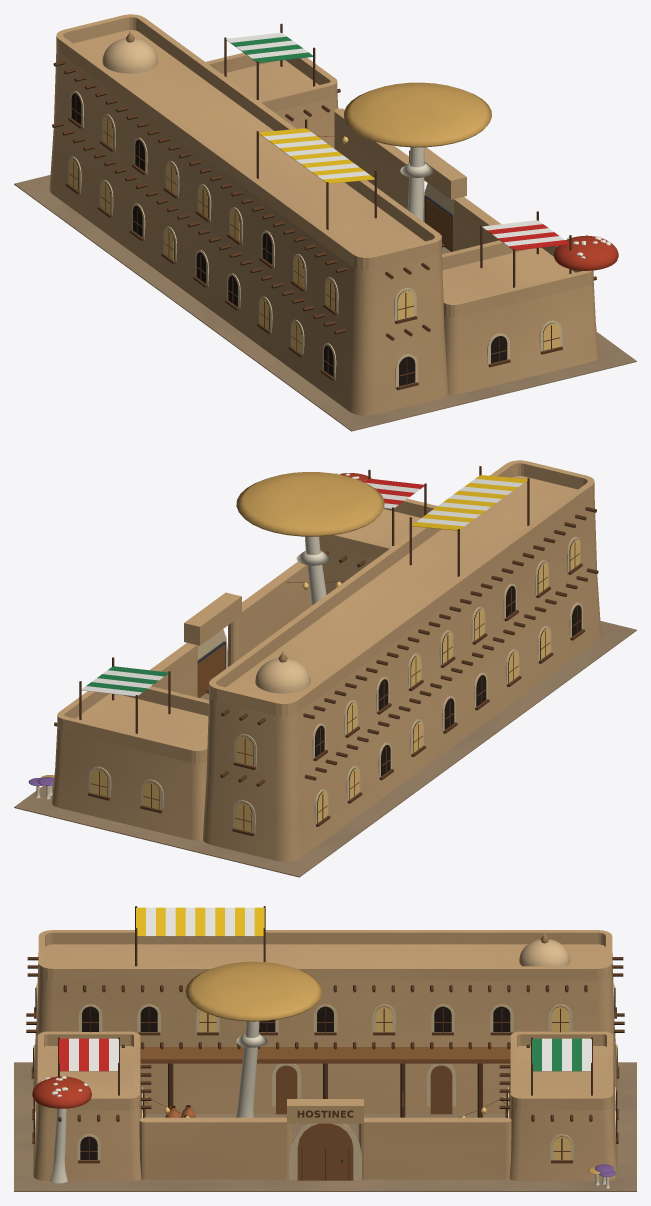
The model's file is hl_hostinec.glb.
The picture shows the model from 3 angles, top to bottom: view 1: azimuth 30°, elevation 25°; view 2: azimuth 150°, elevation 25°; view 3: azimuth 270°, elevation 25°; orthographic projection. The views are drawn at different scales.
Parts seen in each view (by area): view 1: dum, noc; view 2: dum, noc; view 3: dum, noc.
Boxes of the visible parts, box(x1,y1,x2,y2) form: dum: box(14, 14, 636, 431); noc: box(69, 117, 559, 353); dum: box(14, 460, 636, 877); noc: box(91, 539, 579, 832); dum: box(14, 906, 636, 1191); noc: box(144, 1007, 617, 1159).
Bounding box in the file's own units: 14.34 × 9.04 × 29.
Materials: 1 (1 with a texture image).
